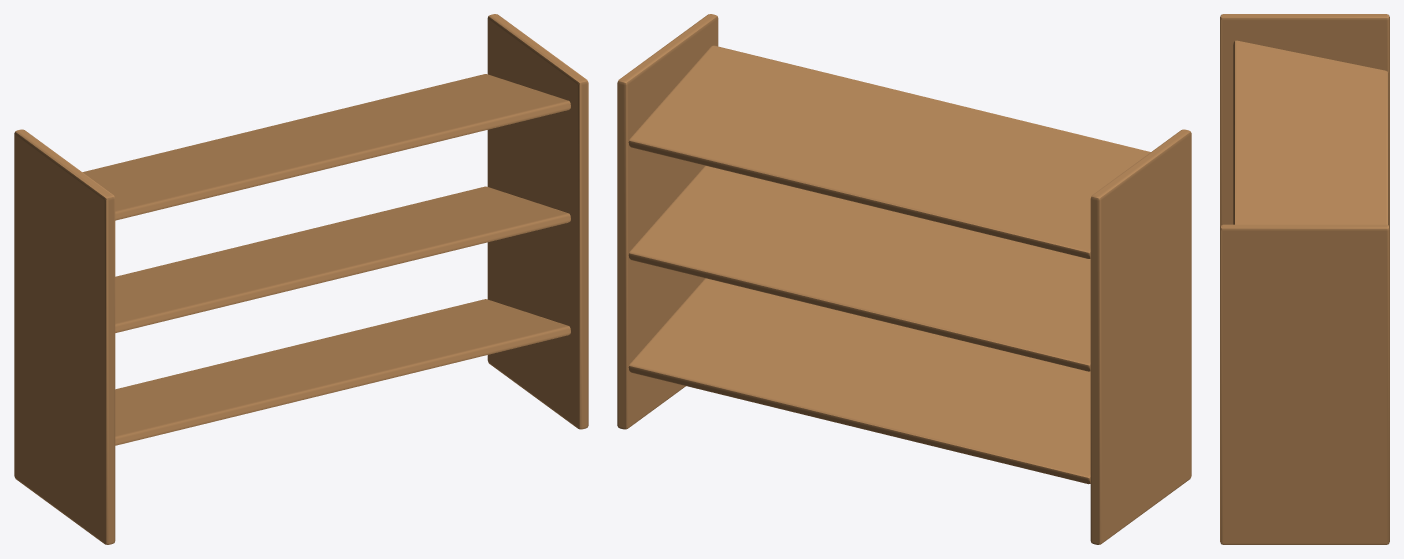
File: shoe-rack.glb
The picture shows the model from 3 angles, left to right: view 1: azimuth 30°, elevation 25°; view 2: azimuth 150°, elevation 25°; view 3: azimuth 270°, elevation 25°; orthographic projection. The views are drawn at different scales.
Parts seen in each view (by area): view 1: shoe-rack; view 2: shoe-rack; view 3: shoe-rack.
Boxes of the visible parts, x1,y1,x2,y2 form: shoe-rack: (14, 14, 588, 544); shoe-rack: (617, 14, 1191, 544); shoe-rack: (1220, 14, 1389, 544).
Bounding box in the file's own units: 0.9 × 0.62 × 0.3.
